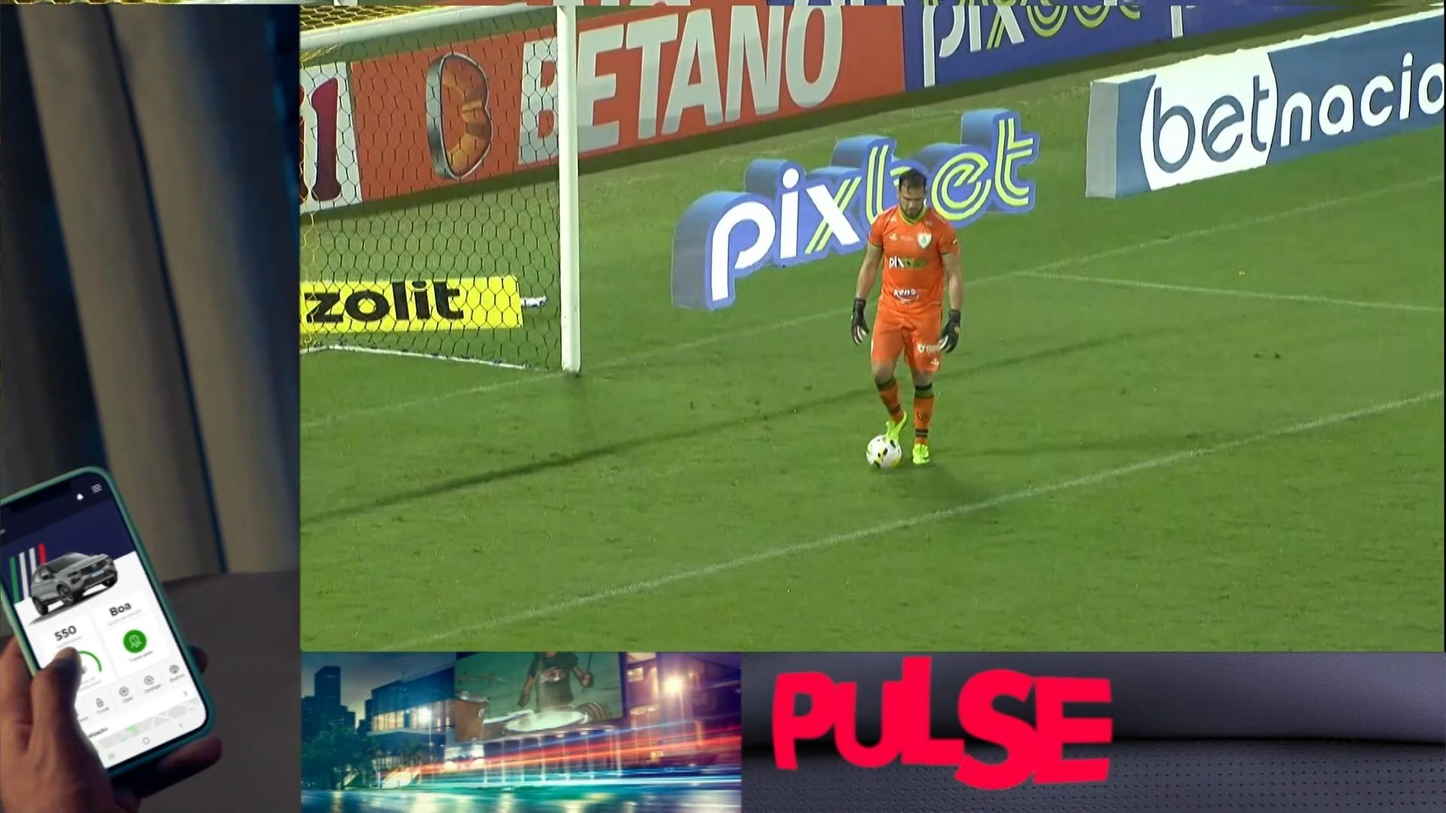objects: (0, 3, 1445, 812)
